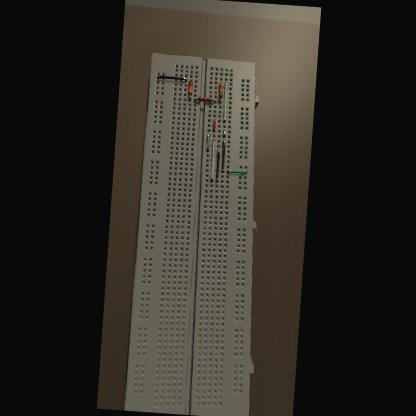breadboard: (122, 53, 273, 416)
resistor: (216, 84, 222, 98), (196, 96, 210, 102), (187, 82, 192, 96)
wire: (222, 83, 228, 123), (209, 140, 214, 182), (214, 150, 220, 183), (156, 76, 184, 82), (221, 141, 224, 173), (226, 170, 245, 174), (205, 134, 208, 151), (211, 120, 214, 132), (222, 130, 224, 138), (193, 99, 196, 102), (211, 100, 214, 102), (188, 96, 189, 102)
